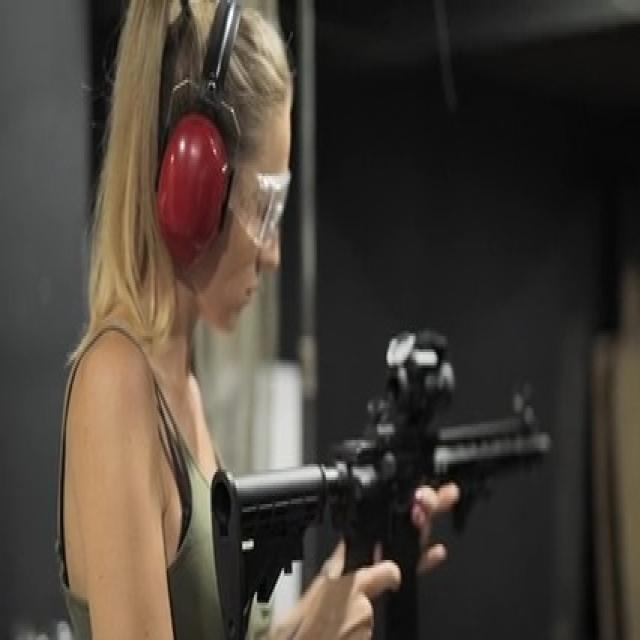Gun_Holder: (199, 316, 611, 627)
Person: (58, 0, 403, 640)
